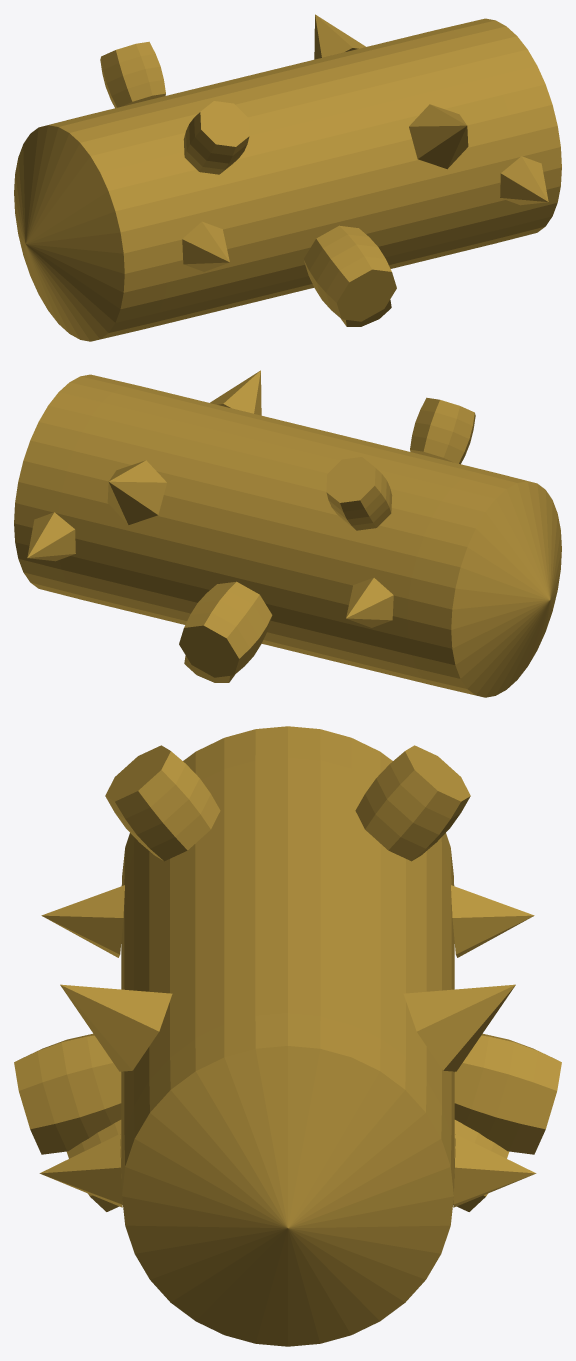
File: exp1_ovoid_cylinder_sym_03.glb
3 renders of one model, top to bottom at view 1: azimuth 30°, elevation 25°; view 2: azimuth 150°, elevation 25°; view 3: azimuth 270°, elevation 25°, orthographic. The views are drawn at different scales.
Visible parts, largest first — view 1: exp1_ovoid_cylinder_sym_03; view 2: exp1_ovoid_cylinder_sym_03; view 3: exp1_ovoid_cylinder_sym_03.
Boxes of the visible parts, x1,y1,x2,y2 form: exp1_ovoid_cylinder_sym_03: (14, 14, 561, 341); exp1_ovoid_cylinder_sym_03: (14, 370, 561, 697); exp1_ovoid_cylinder_sym_03: (14, 726, 561, 1346).
Bounding box in the file's own units: 3.54 × 1.57 × 2.14.
